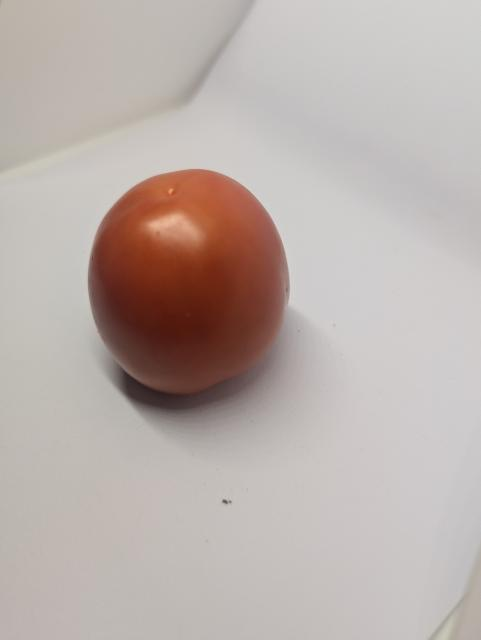red: (86, 164, 299, 399)
